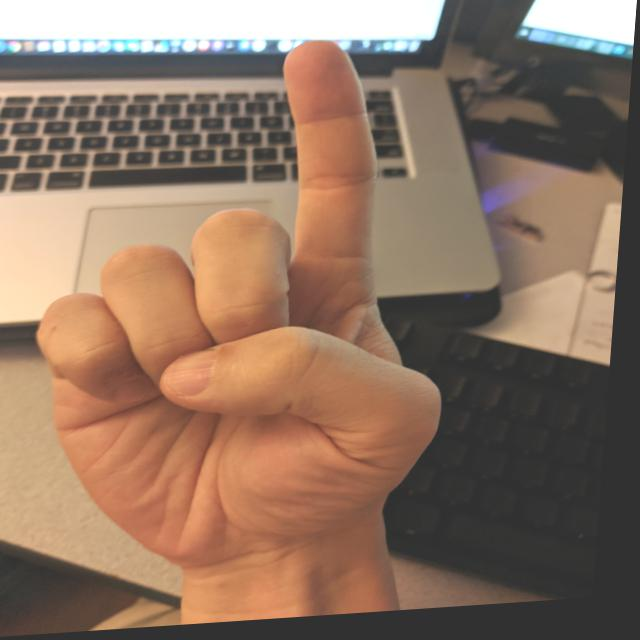D: (14, 26, 480, 593)
